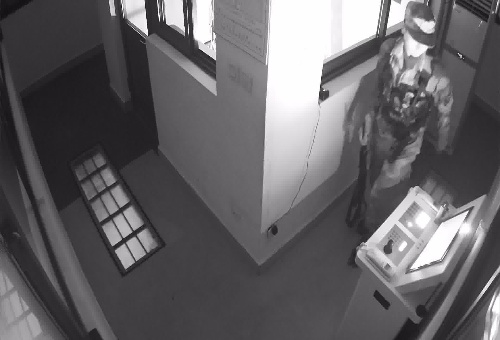person: (366, 7, 454, 210)
